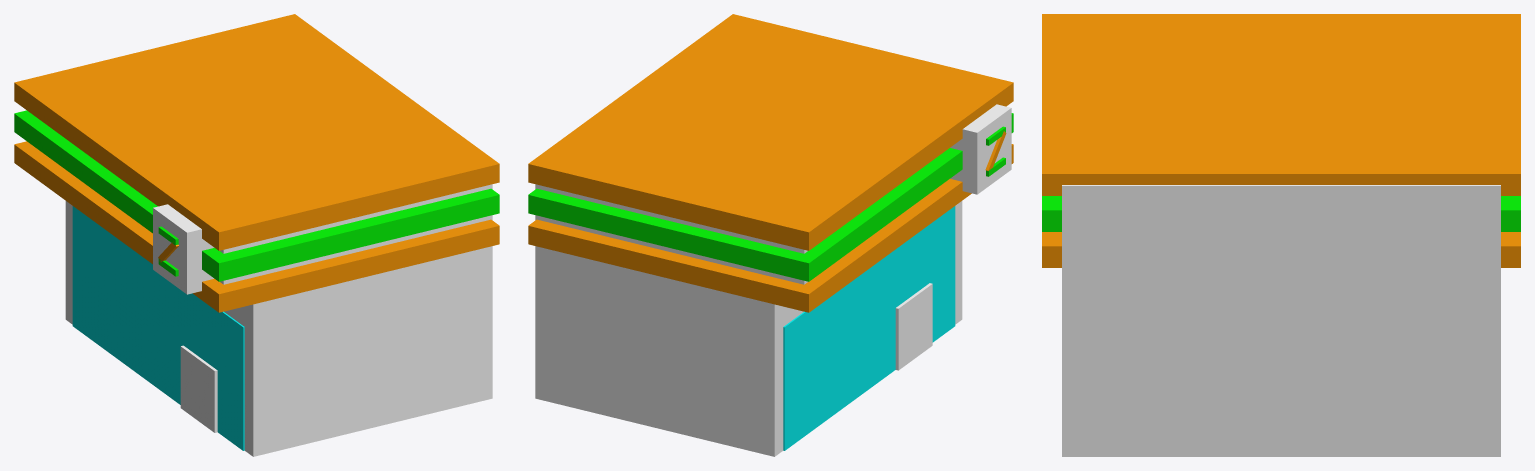
The model's file is convenience.glb.
3 views of the same model, side by side, from view 1: azimuth 30°, elevation 25°; view 2: azimuth 150°, elevation 25°; view 3: azimuth 270°, elevation 25° (orthographic). The views are drawn at different scales.
Parts seen in each view (by area): view 1: pCube4, pCube1, pCube7, pCube5, pCube3, pCube6, pCube2, pCube8, pCube9; view 2: pCube4, pCube1, pCube7, pCube5, pCube3, pCube6, pCube2, pCube9, pCube8; view 3: pCube1, pCube4, pCube2, pCube3, pCube5.
Part boxes in pixels (bbox=[...]): pCube4: bbox=[14, 14, 499, 250]; pCube1: bbox=[65, 201, 492, 456]; pCube7: bbox=[72, 206, 244, 450]; pCube5: bbox=[14, 141, 499, 312]; pCube3: bbox=[14, 110, 499, 281]; pCube6: bbox=[153, 204, 214, 294]; pCube2: bbox=[220, 184, 492, 284]; pCube8: bbox=[197, 358, 217, 432]; pCube9: bbox=[180, 345, 199, 420]; pCube4: bbox=[528, 14, 1013, 250]; pCube1: bbox=[535, 201, 962, 456]; pCube7: bbox=[783, 206, 955, 450]; pCube5: bbox=[528, 144, 1013, 312]; pCube3: bbox=[528, 113, 1013, 281]; pCube6: bbox=[950, 104, 1011, 194]; pCube2: bbox=[535, 184, 807, 284]; pCube9: bbox=[895, 295, 915, 370]; pCube8: bbox=[913, 283, 932, 357]; pCube1: bbox=[1062, 240, 1500, 456]; pCube4: bbox=[1042, 14, 1520, 195]; pCube2: bbox=[1062, 185, 1500, 256]; pCube3: bbox=[1042, 196, 1520, 231]; pCube5: bbox=[1042, 232, 1520, 267].
Bounding box in the file's own units: 4.06 × 3.12 × 4.8.
